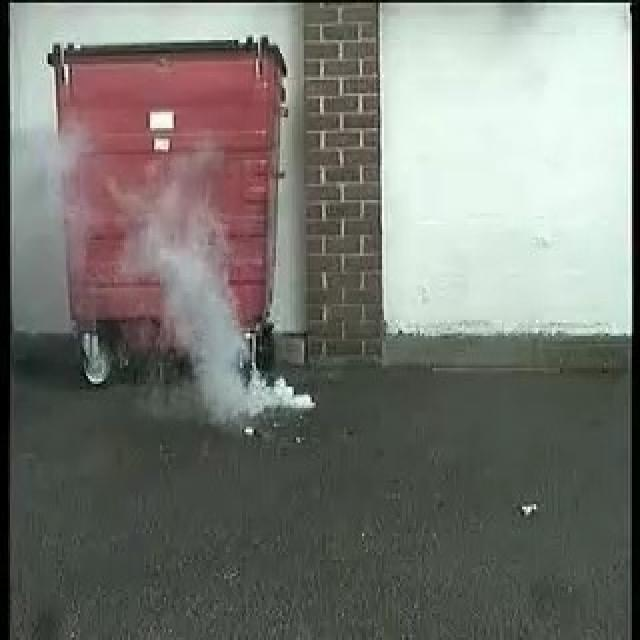smoke: (148, 180, 310, 413)
